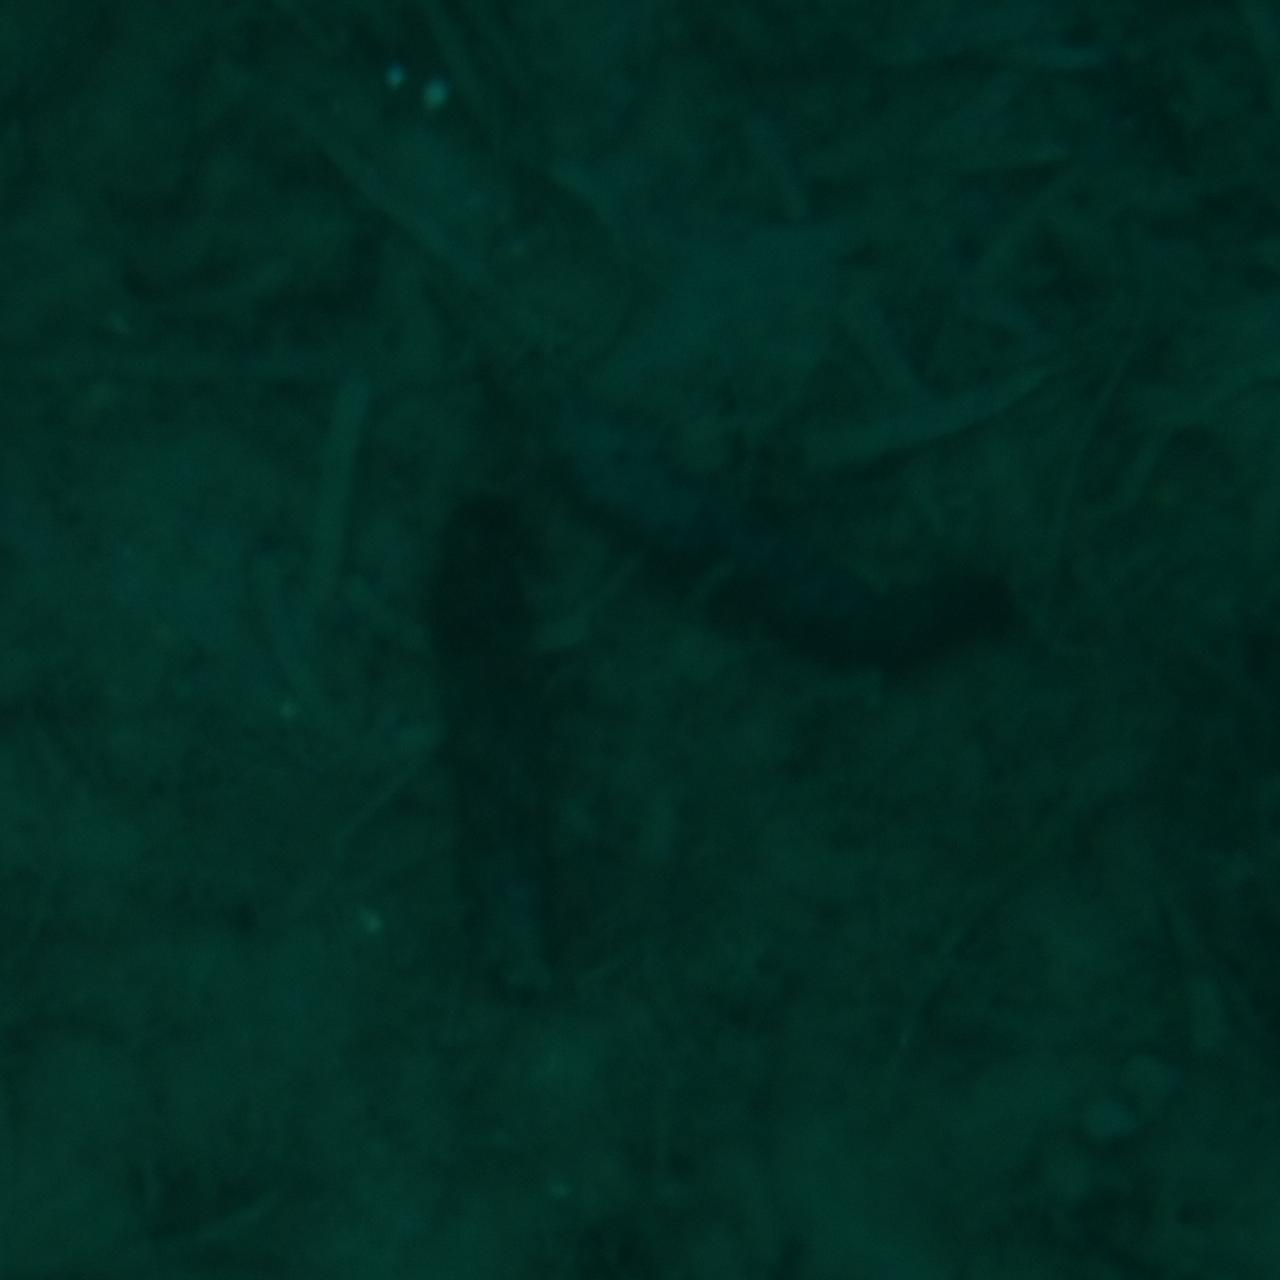Holothuria tubulosa: (482, 339, 1058, 678), (433, 492, 587, 1051)
